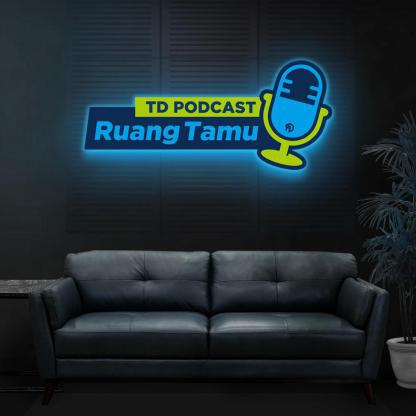sova: (44, 246, 386, 396)
tanaman: (371, 117, 416, 395)
